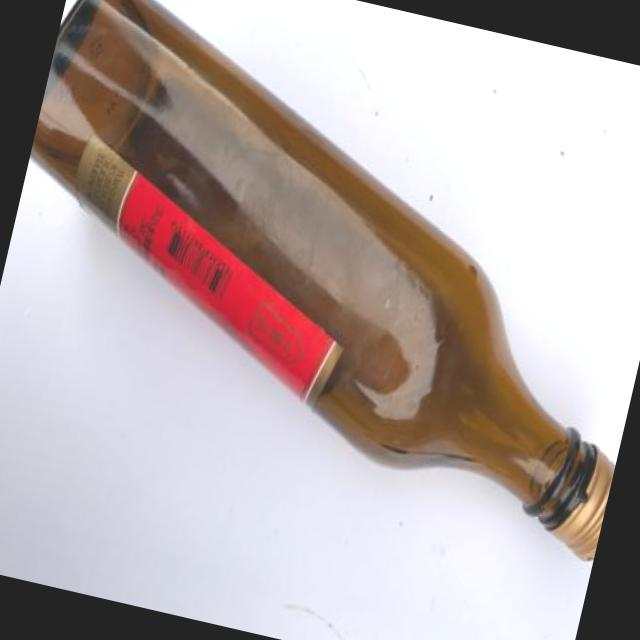chai_thuy_tinh: (29, 0, 615, 559)
